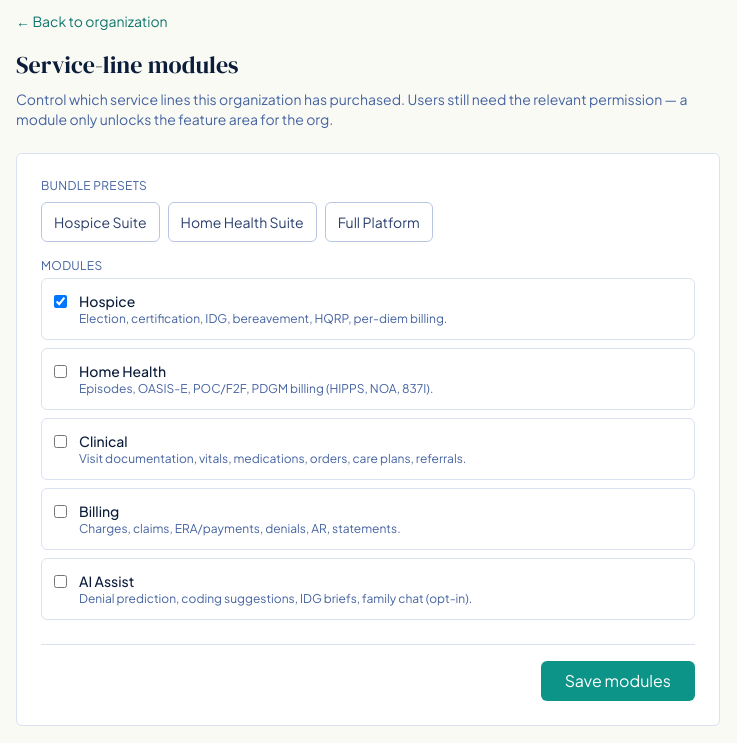
Test: OrganizationModulesTab › saves the edited selection via setModules
Expected: the checkbox labelled "Hospice" is checked, [54,295,67,308]
Click the checkbox labelled "Billing": (60, 512) [54,505,67,518]
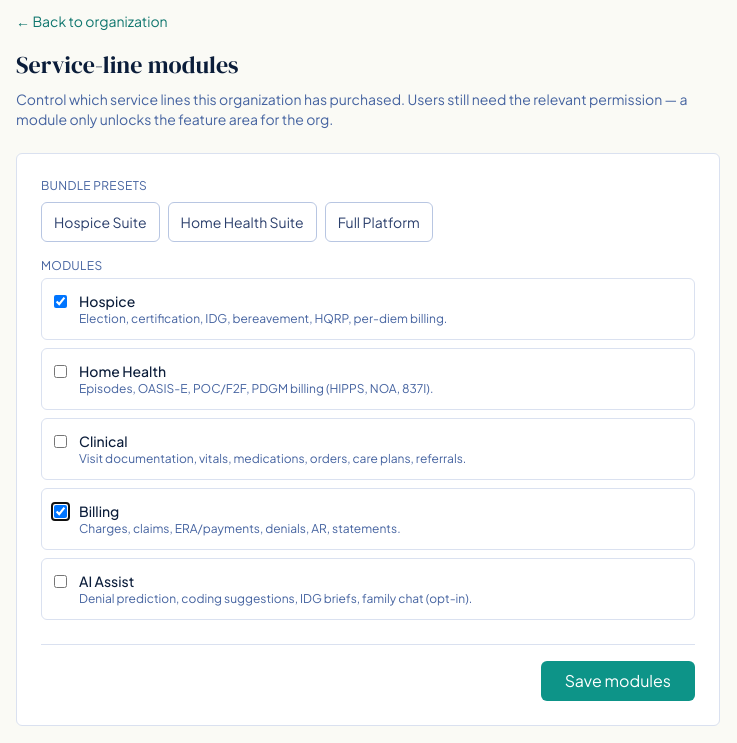
Click the button "Save modules": (618, 681) [541,661,695,701]
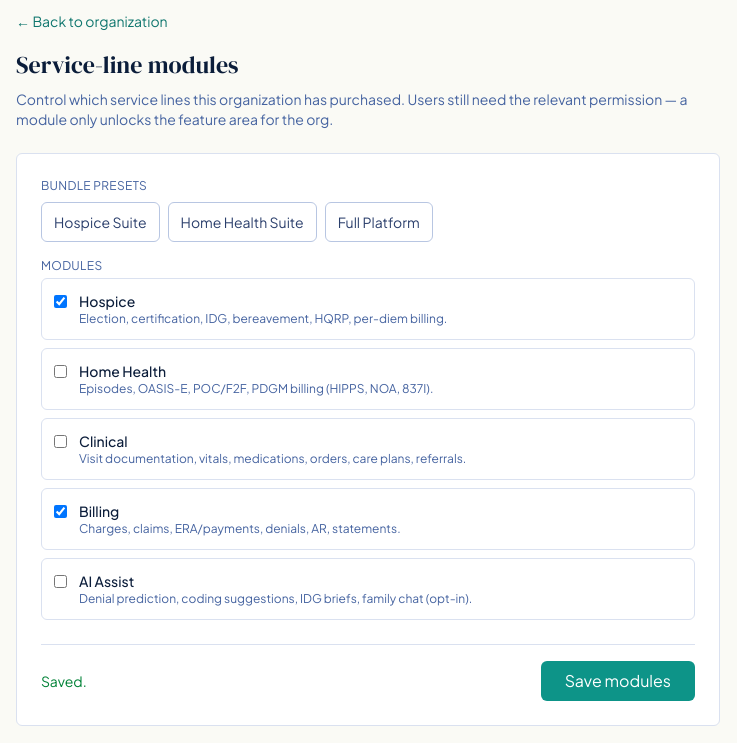
Now the text "Saved." is shown, box [41,671,87,691]
